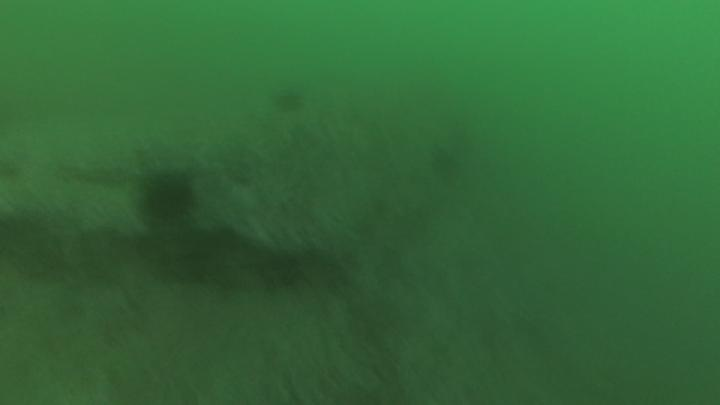echinus: (137, 166, 200, 227), (426, 143, 465, 188), (271, 85, 307, 115)
